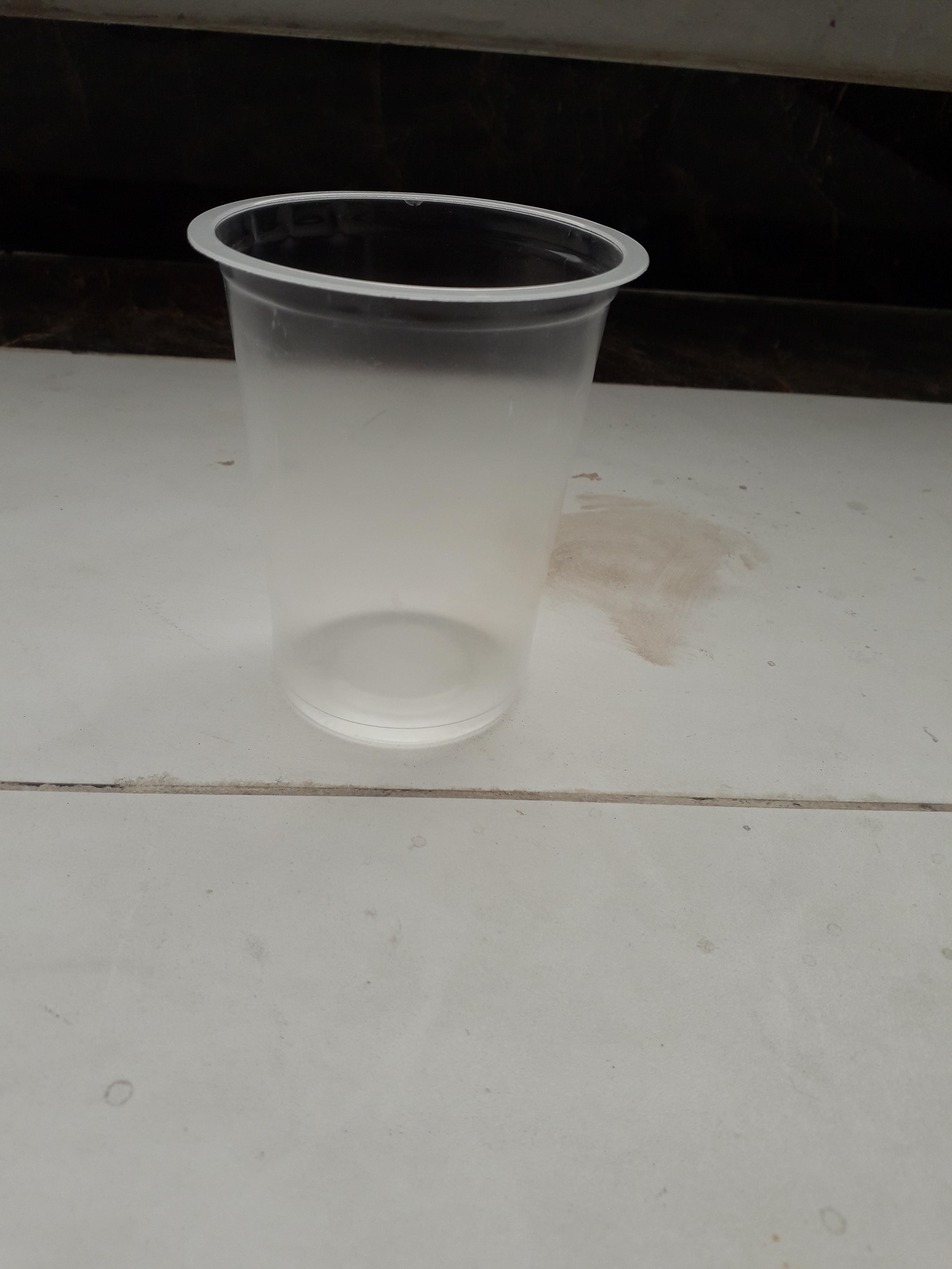cup-disposable: (183, 179, 658, 760)
